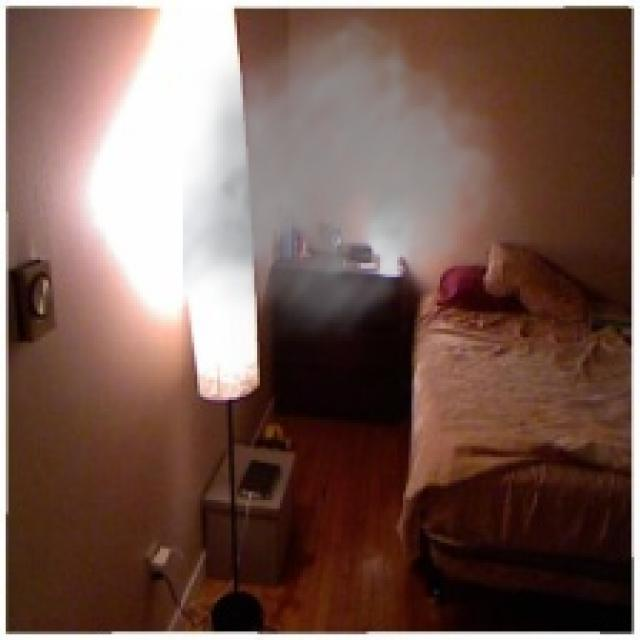Smoke: (182, 0, 535, 352)
